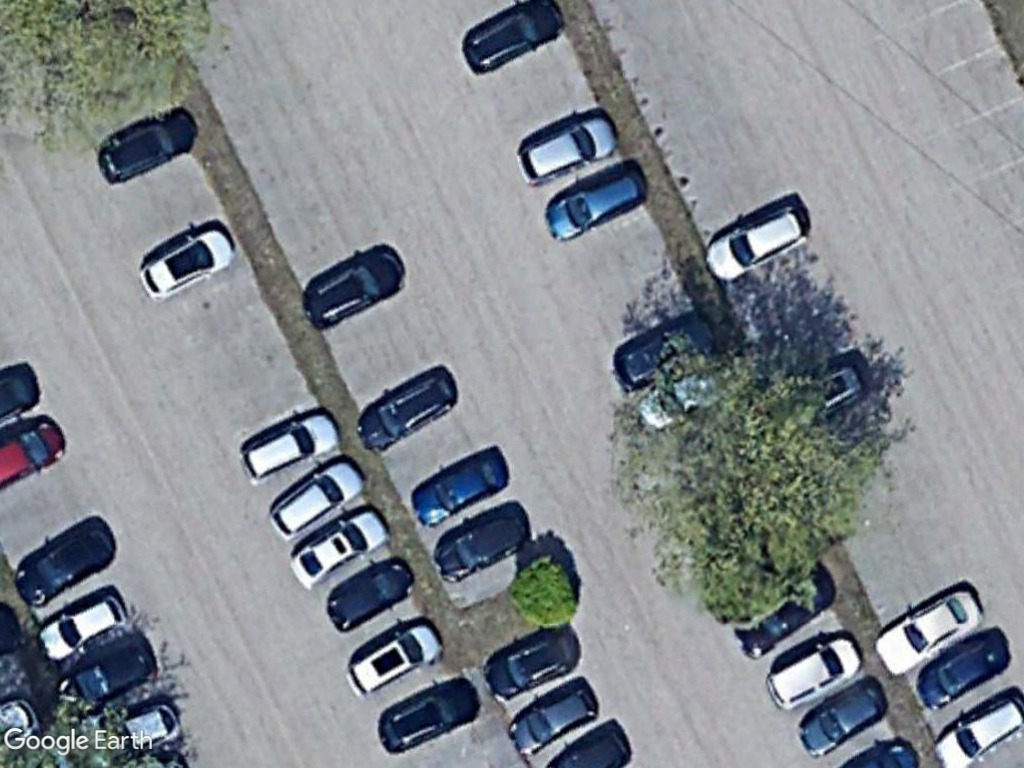car: (871, 584, 987, 680), (293, 245, 412, 333), (352, 365, 463, 454), (12, 519, 119, 608), (288, 503, 392, 593), (541, 161, 649, 247), (704, 201, 813, 284), (263, 455, 368, 541), (343, 618, 448, 704), (48, 639, 154, 724), (911, 625, 1015, 711), (512, 106, 618, 188), (372, 677, 480, 756), (432, 501, 536, 583), (238, 405, 343, 486), (760, 629, 866, 708), (135, 222, 237, 304), (409, 447, 511, 529), (456, 0, 566, 76), (92, 110, 200, 187), (480, 626, 584, 704), (928, 684, 1023, 768), (504, 679, 604, 758), (792, 679, 888, 757), (319, 556, 416, 633), (38, 585, 132, 661)
